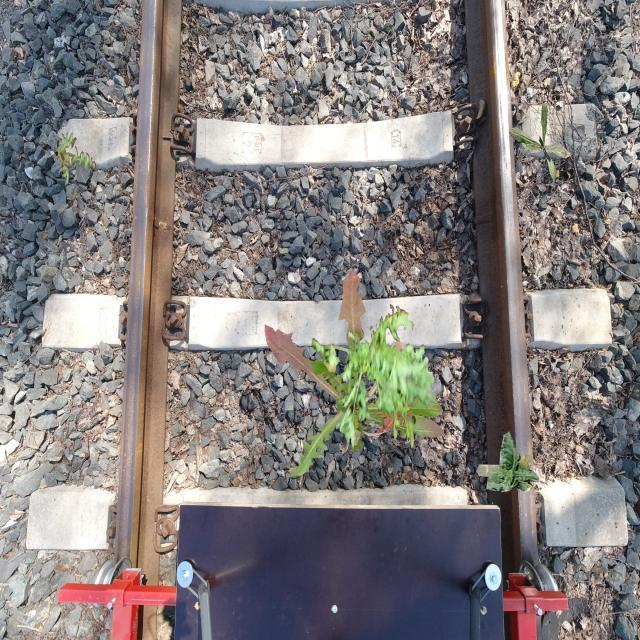Plant: (265, 269, 445, 478), (312, 304, 437, 451), (509, 102, 573, 186), (476, 431, 540, 493), (55, 132, 96, 186)
